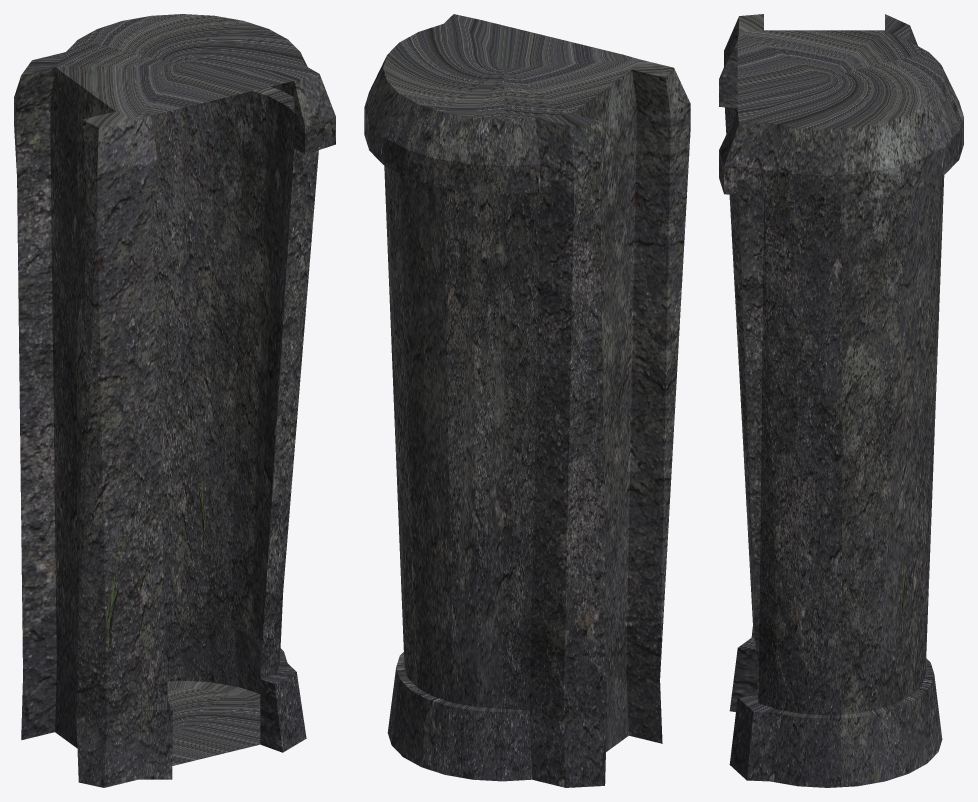
The model's file is Wall end piece corner.fbx.
The picture shows the model from 3 angles, left to right: view 1: azimuth 30°, elevation 25°; view 2: azimuth 150°, elevation 25°; view 3: azimuth 270°, elevation 25°; orthographic projection.
Visible parts, largest first — view 1: polySurface45; view 2: polySurface45; view 3: polySurface45.
Boxes of the visible parts, x1,y1,x2,y2 form: polySurface45: (14,14,335,787); polySurface45: (364,14,690,787); polySurface45: (719,14,963,787).
Bounding box in the file's own units: 0.4742 × 1.17 × 0.3924.
1 material, 1 textured.
